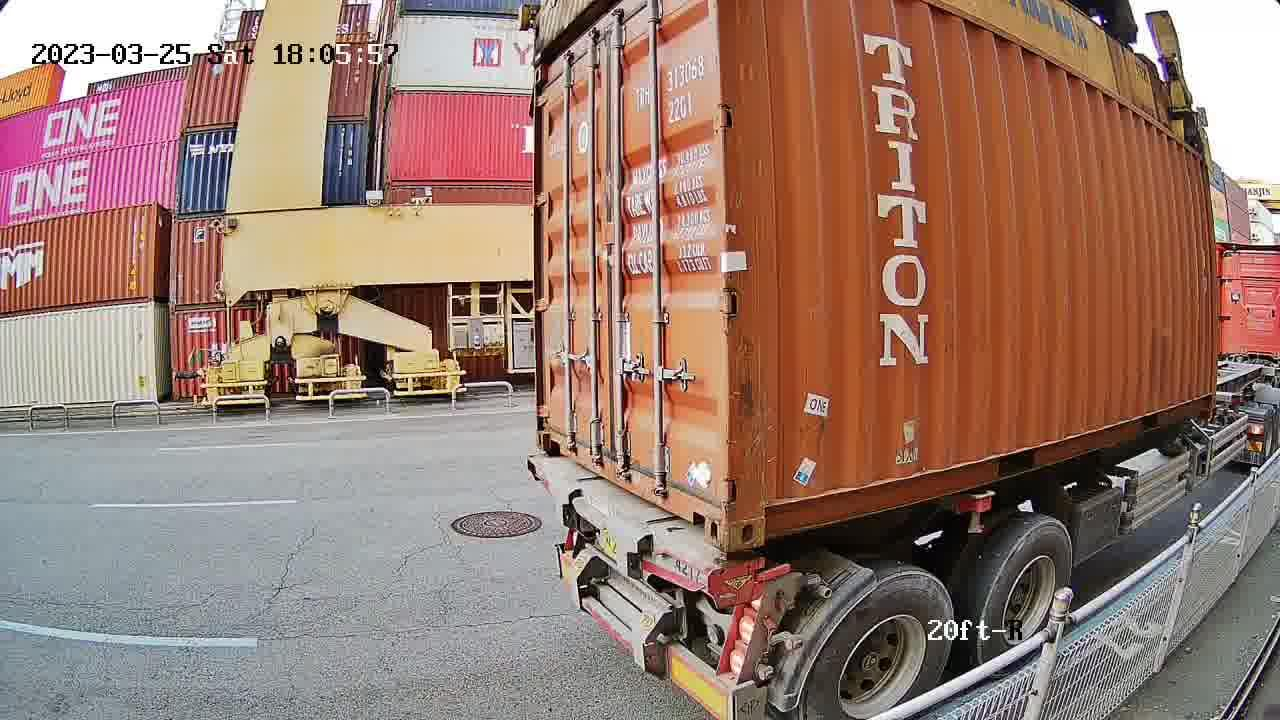Chassis: (531, 457, 769, 606)
Cone: (728, 559, 763, 605)
Hole_L: (728, 478, 796, 551), (537, 409, 566, 459)
Hole_R: (683, 466, 728, 553)
Tire: (805, 576, 953, 718), (979, 522, 1072, 674)
